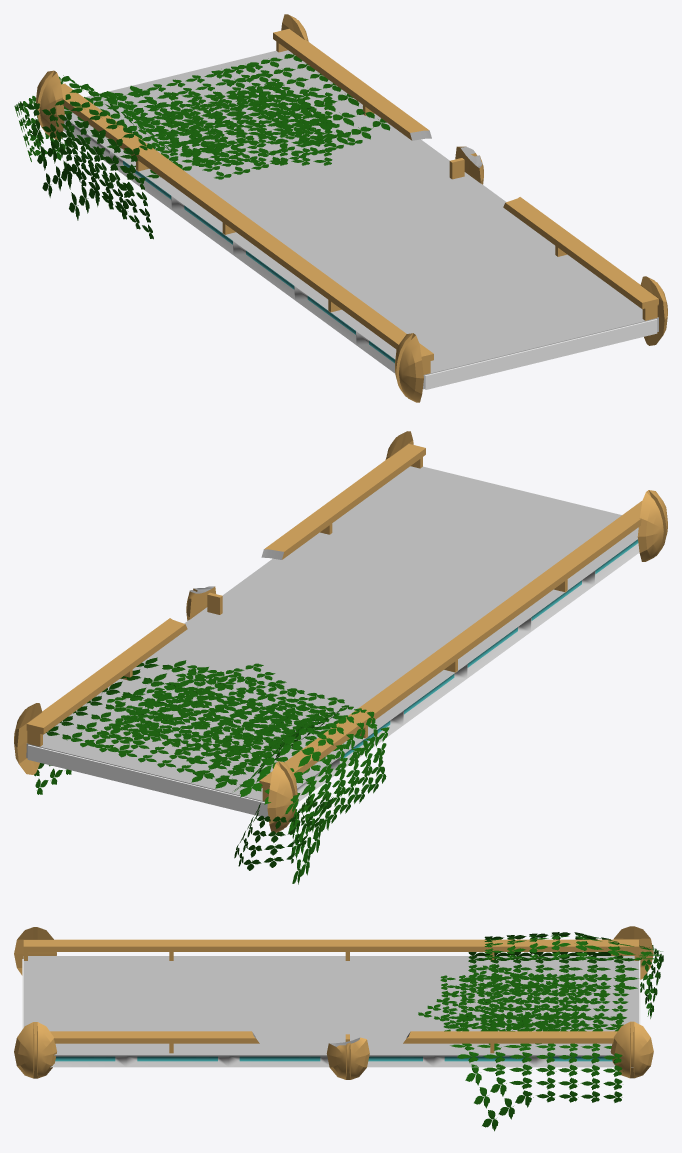
The model's file is bridge2.fbx.
3 renders of one model, top to bottom at view 1: azimuth 30°, elevation 25°; view 2: azimuth 150°, elevation 25°; view 3: azimuth 270°, elevation 25°, orthographic. The views are drawn at different scales.
Parts seen in each view (by area): view 1: bridge, railing, railing1, vine, vine2, vine1, vine3, vine4, bridgeinterior, vine5, railing_side_object1, railing_side_object3 (+3 smaller); view 2: bridge, railing, railing1, vine, vine2, vine1, vine4, bridgeinterior, vine3, vine5, vine6, railing_side_object1 (+2 smaller); view 3: bridge, railing, vine4, railing1, vine, vine1, vine3, vine2, railing_side_object, vine5, railing_side_object2, railing_side_object_damaged (+3 smaller).
Boxes of the visible parts, x1,y1,x2,y2 form: bridge: (63,50,658,389); railing: (61,83,433,362); railing1: (273,28,658,309); vine: (159,92,332,165); vine2: (26,75,173,215); vine1: (107,62,335,157); vine3: (54,85,237,239); vine4: (214,54,390,146); bridgeinterior: (85,50,657,389); vine5: (133,84,362,179); railing_side_object1: (395,333,423,402); railing_side_object3: (35,70,64,139); bridge: (26,466,639,802); railing: (259,501,642,787); railing1: (26,444,425,734); vine: (107,663,338,763); vine2: (234,705,386,876); vine1: (80,682,317,782); vine4: (34,657,228,794); bridgeinterior: (27,466,619,817); vine3: (191,704,389,884); vine5: (112,665,344,763); vine6: (234,795,333,870); railing_side_object1: (637,490,667,561); bridge: (23,956,638,1067); railing: (23,939,638,951); vine4: (445,1013,624,1131); railing1: (50,1031,617,1043); vine: (418,964,607,1044); vine1: (481,972,629,1031); vine3: (468,952,638,991); vine2: (484,932,662,960); railing_side_object: (14,1022,56,1078); vine5: (440,973,586,1031); railing_side_object2: (610,1021,653,1078); railing_side_object_damaged: (326,1037,369,1079).
Bounding box in the file's own units: 7.71 × 3.64 × 18.1.
